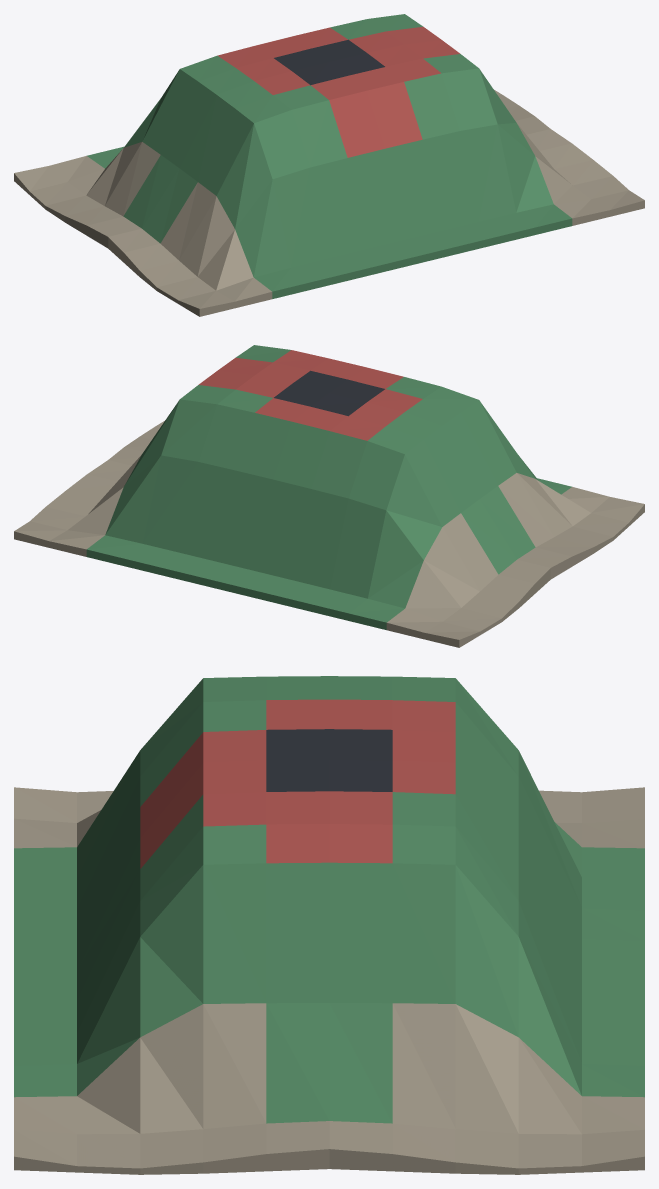
The model's file is chip_bag.glb.
3 views of the same model, one above another, from view 1: azimuth 30°, elevation 25°; view 2: azimuth 150°, elevation 25°; view 3: azimuth 270°, elevation 25° (orthographic). The views are drawn at different scales.
Parts seen in each view (by area): view 1: chip_bag; view 2: chip_bag; view 3: chip_bag.
Boxes of the visible parts, x1,y1,x2,y2 form: chip_bag: [14, 14, 644, 316]; chip_bag: [14, 345, 644, 647]; chip_bag: [14, 676, 644, 1174].
Bounding box in the file's own units: 0.28 × 0.0779 × 0.1972.
